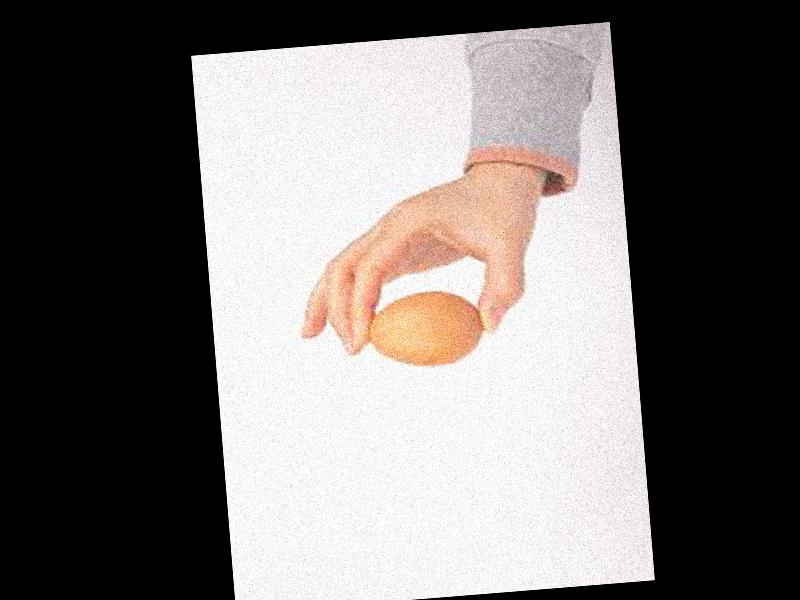Eggs: (363, 290, 482, 371)
